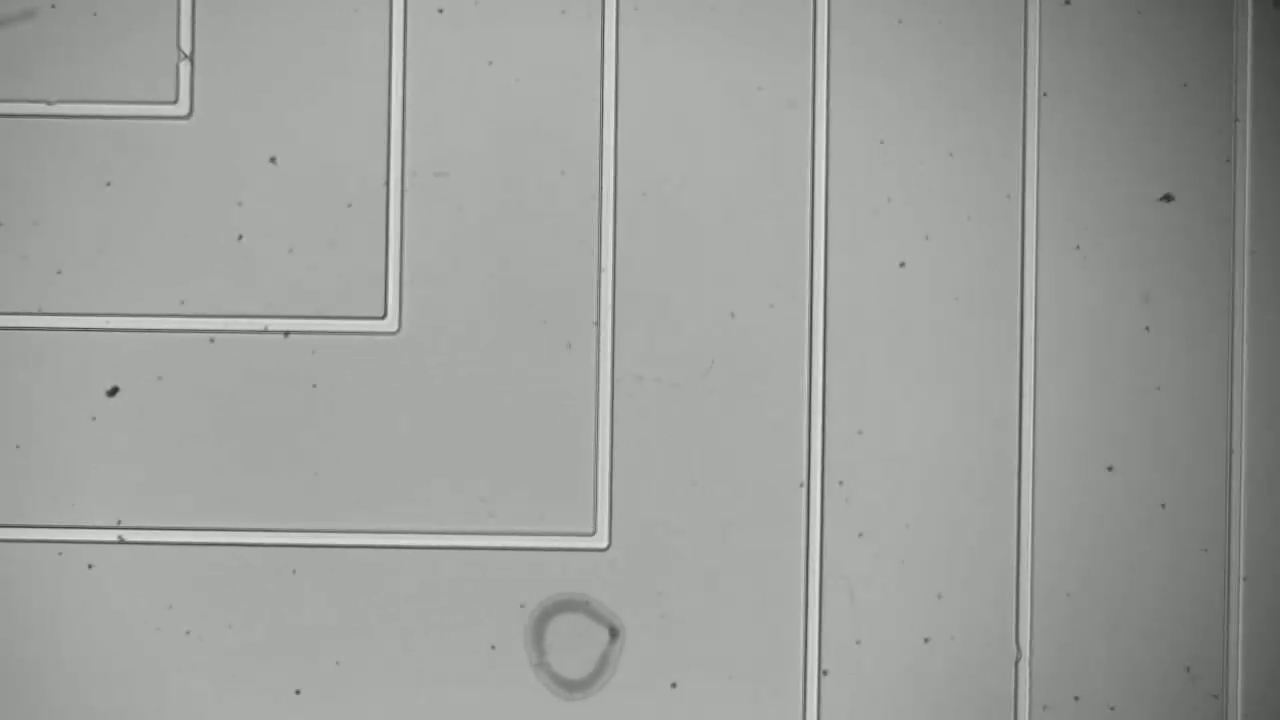edge_bite: (1006, 629, 1042, 677), (171, 40, 204, 70)
